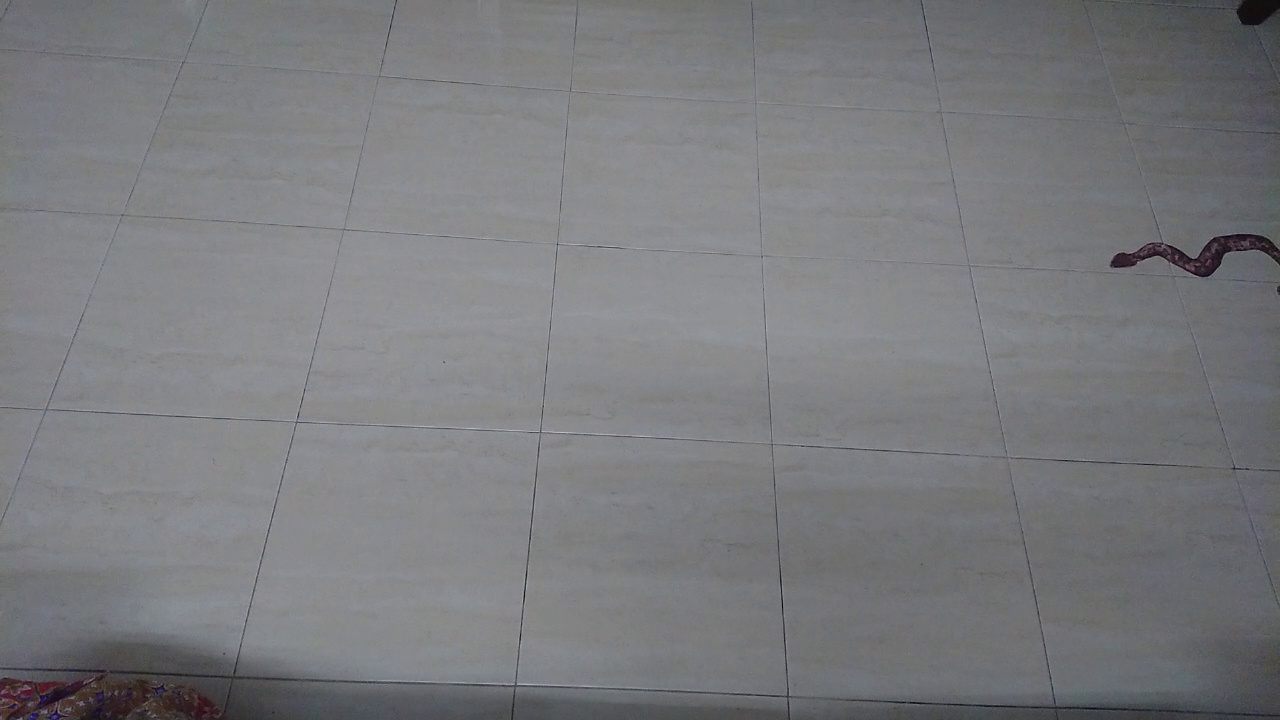snake: (1096, 217, 1280, 293)
